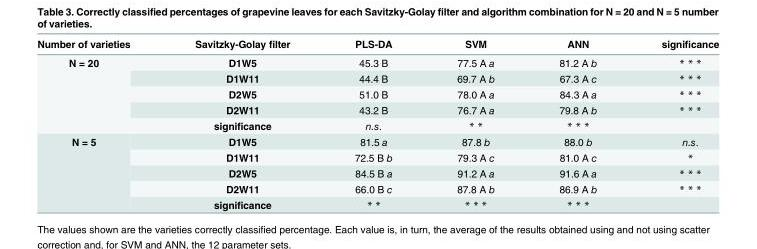table: (36, 37, 718, 210)
table column: (161, 37, 321, 210), (36, 37, 161, 210), (423, 37, 526, 210), (321, 37, 423, 210), (526, 37, 628, 210), (628, 37, 718, 210)
table column header: (36, 37, 718, 52)
table row: (36, 52, 718, 70), (36, 70, 718, 86), (36, 101, 718, 117), (36, 117, 718, 133), (36, 133, 718, 149), (36, 164, 718, 180), (36, 180, 718, 196), (36, 37, 718, 52), (36, 86, 718, 101), (36, 149, 718, 164), (36, 196, 718, 210)
table spanning cell: (36, 52, 161, 133), (36, 133, 161, 210)
